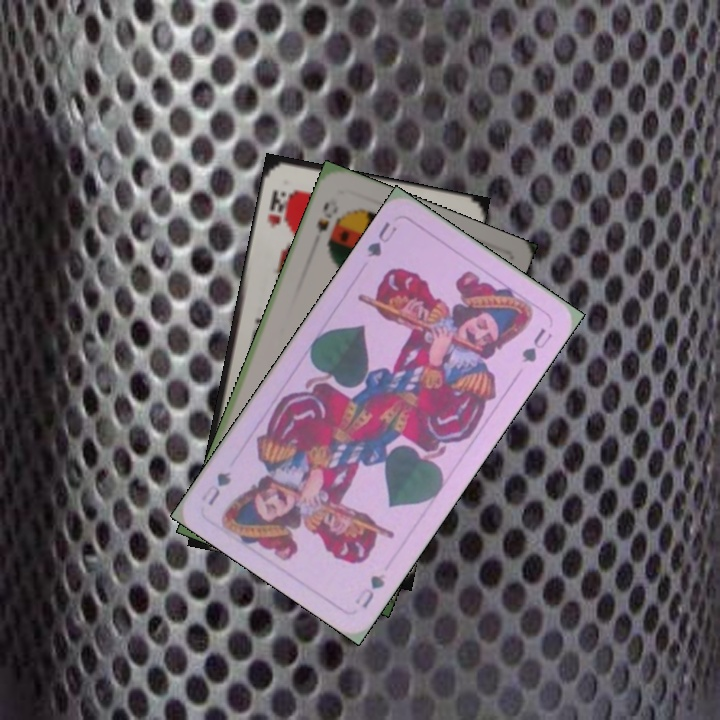GU: (363, 217, 400, 260), (351, 569, 388, 611)
HK: (264, 185, 293, 231)
SO: (309, 197, 335, 247)
